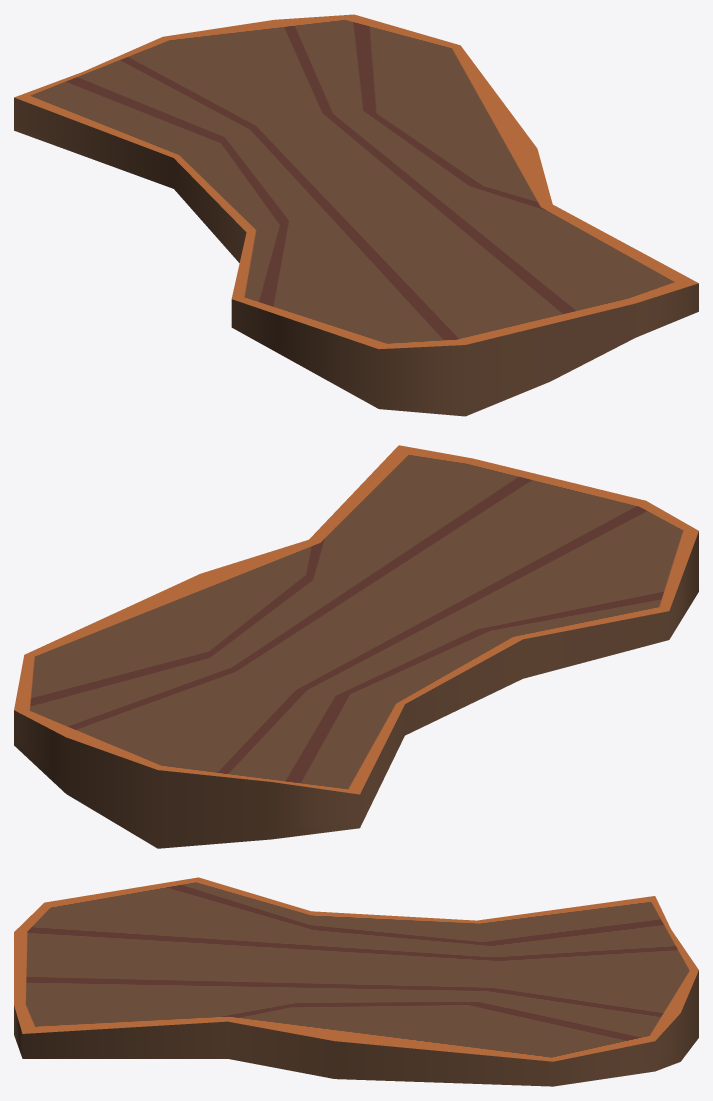
Rendered from tree_platform.glb.
The picture shows the model from 3 angles, top to bottom: view 1: azimuth 30°, elevation 25°; view 2: azimuth 150°, elevation 25°; view 3: azimuth 270°, elevation 25°; orthographic projection. The views are drawn at different scales.
Visible parts, largest first — view 1: Cube; view 2: Cube; view 3: Cube.
Boxes of the visible parts, bbox=[...] form: Cube: bbox=[14, 14, 698, 416]; Cube: bbox=[14, 445, 698, 848]; Cube: bbox=[14, 877, 698, 1086].
Bounding box in the file's own units: 17.39 × 3.23 × 27.31.
1 material, 1 textured.
